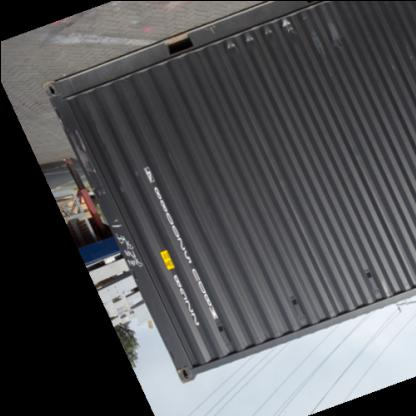Damage: (222, 9, 332, 53), (61, 121, 110, 206), (94, 218, 152, 284)
